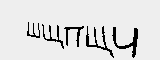П: (63, 24, 81, 48)
Ч: (112, 27, 139, 59)
Ш: (25, 21, 40, 40)
Щ: (84, 25, 113, 56), (42, 23, 65, 49)
